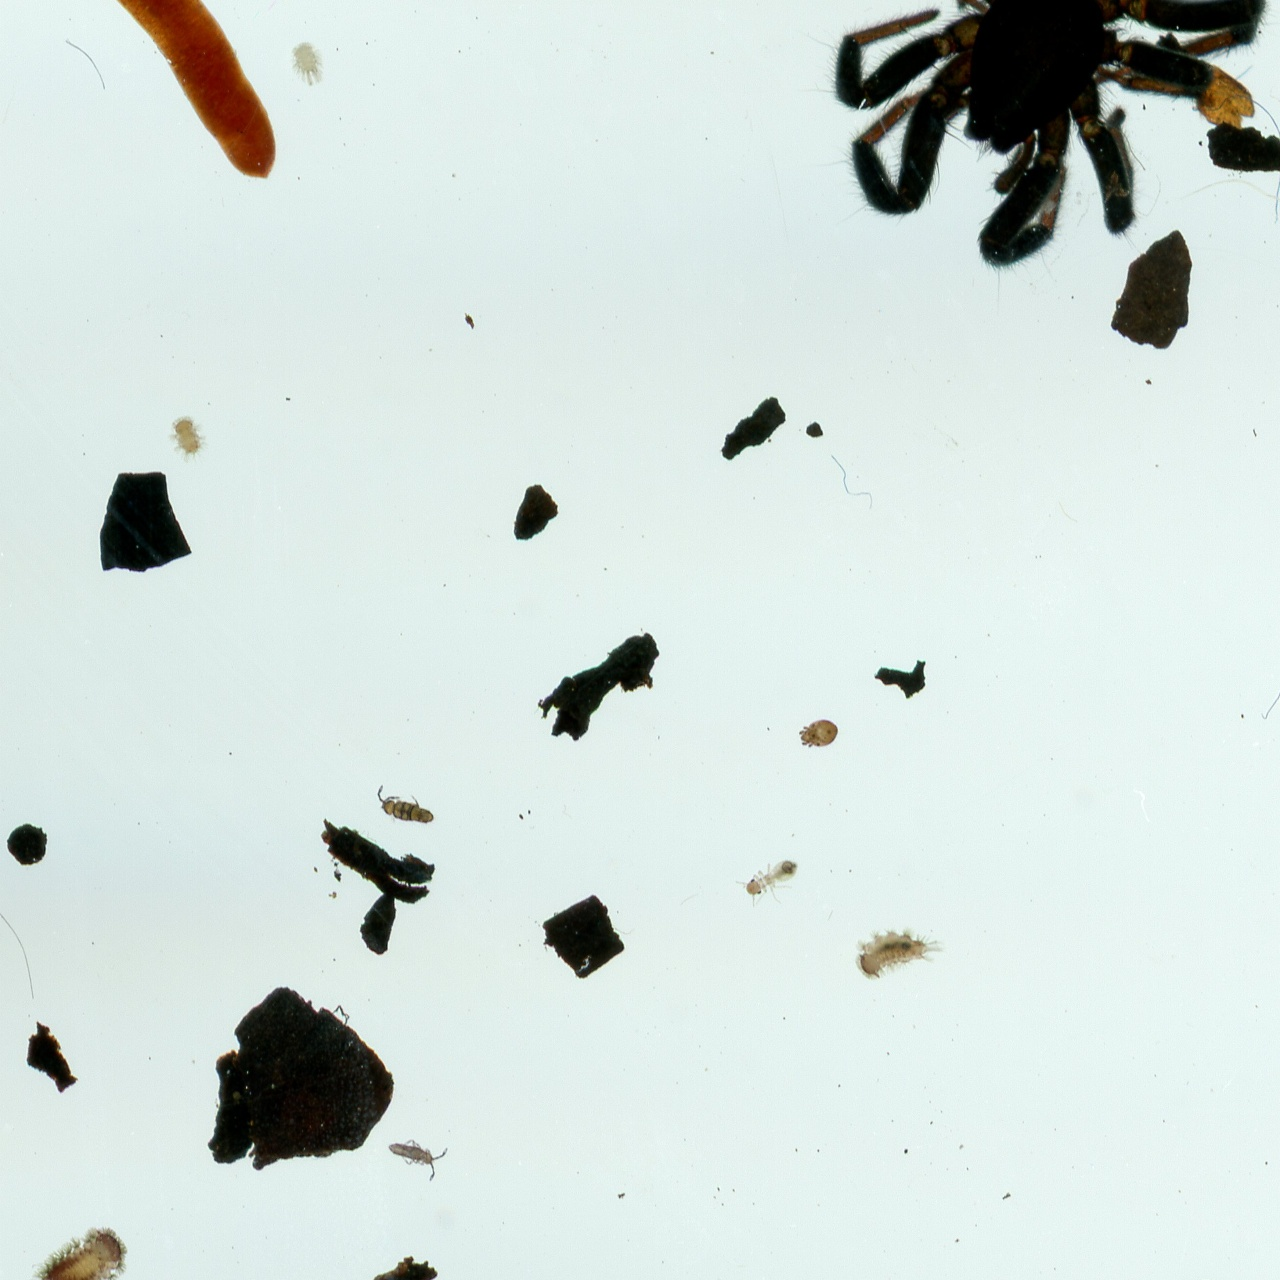arthropod: (788, 0, 1280, 324), (4, 1206, 151, 1280), (850, 919, 948, 986), (731, 845, 805, 912), (376, 1131, 459, 1189), (375, 781, 437, 828), (162, 411, 212, 464), (288, 40, 328, 88), (795, 716, 842, 751)
